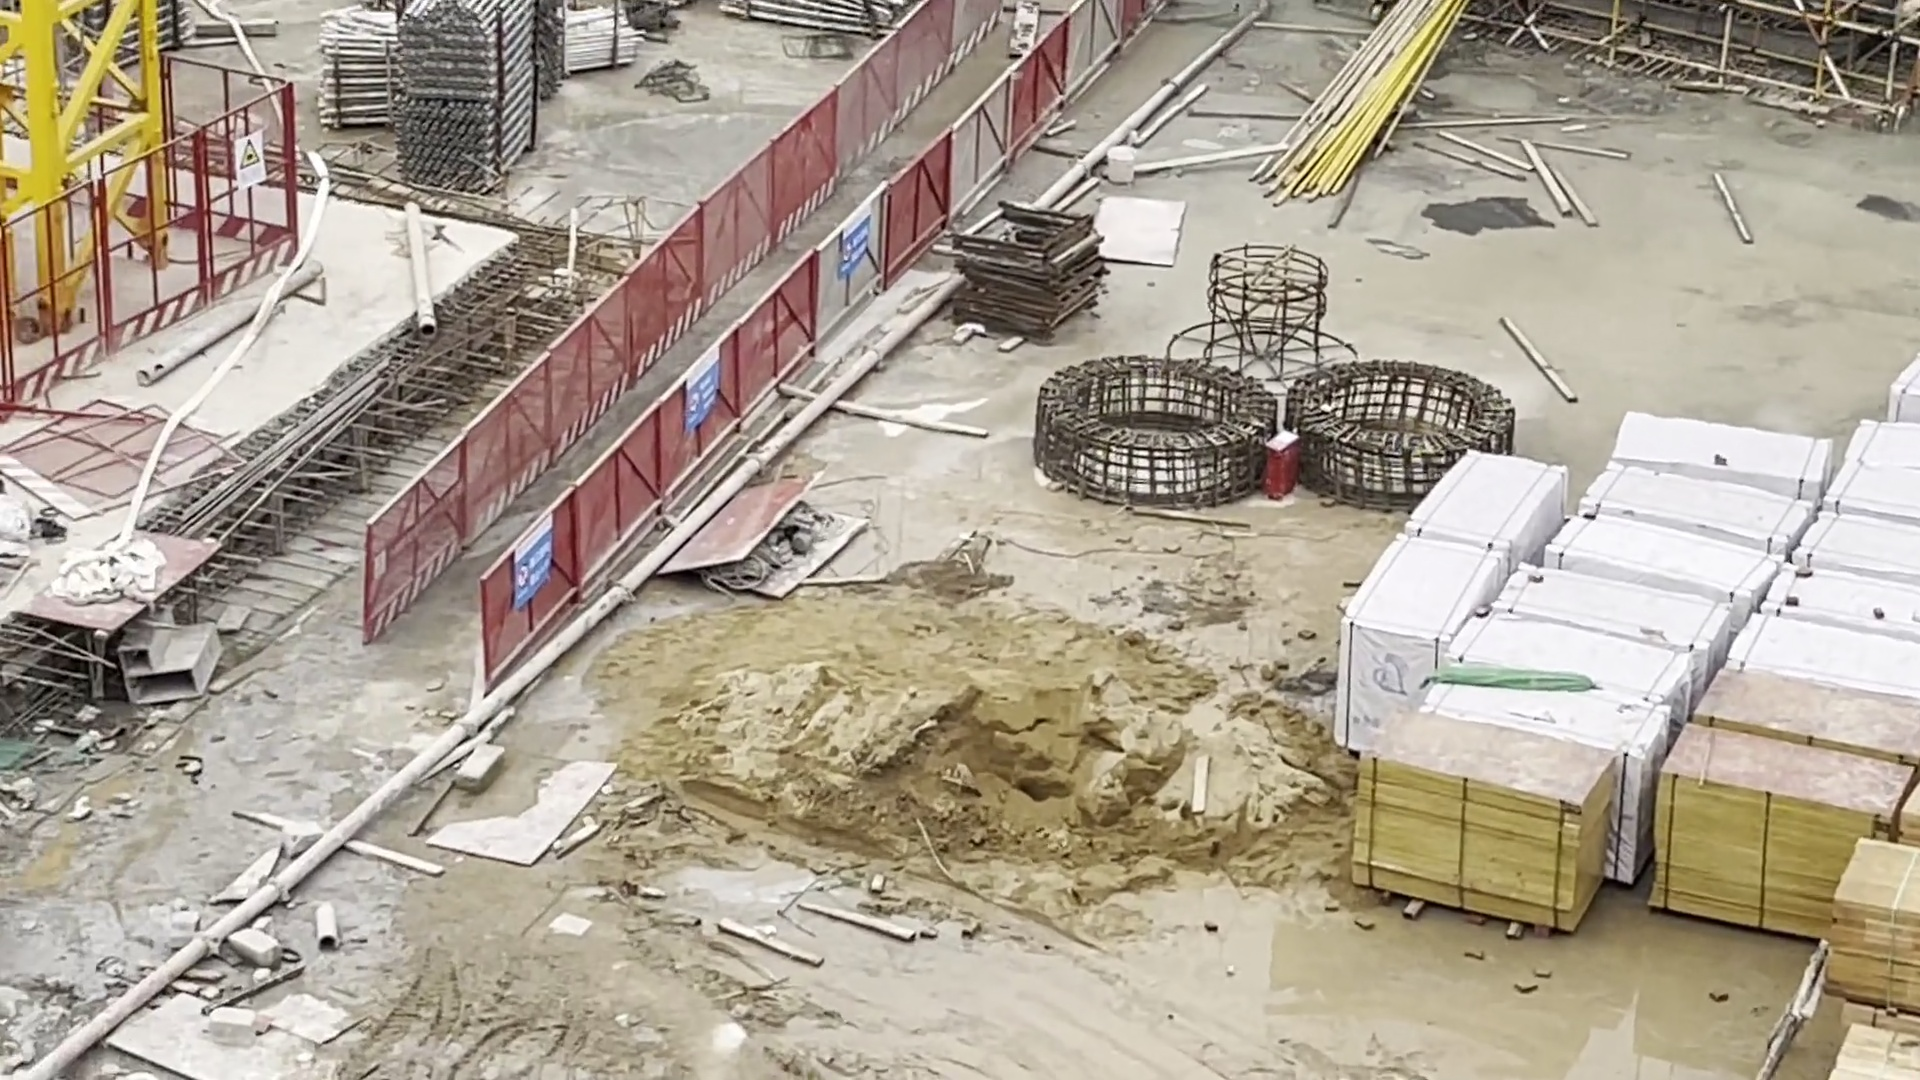fence: (367, 1, 1092, 667), (11, 58, 316, 363)
scaffold: (392, 4, 506, 202), (313, 9, 394, 137), (555, 1, 641, 59)
slogan: (498, 508, 572, 597), (678, 353, 744, 433), (836, 200, 878, 286)
wood: (1346, 696, 1592, 948), (1648, 723, 1899, 951), (1702, 661, 1920, 764), (1822, 832, 1920, 1001), (1822, 1011, 1919, 1080)
